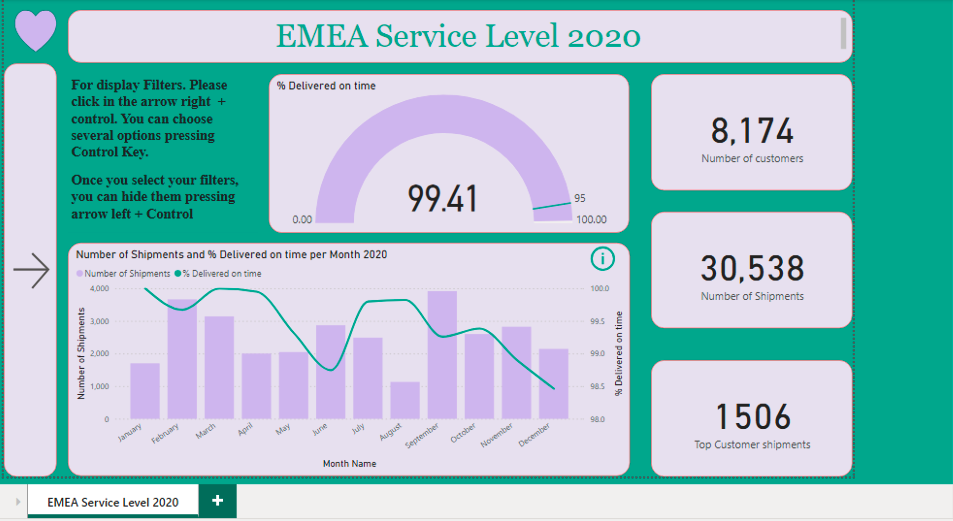

What the dashboard file says about the page in this screenshot:
{"tool":"powerbi","page":{"name":"EMEA Service Level 2020","canvas":[1280,720],"ordinal":0},"visuals":[{"type":"lineStackedColumnComboChart","title":"Number of Shipments and % Delivered on time per Month 2020","fields":{"Category":["DIM_Dates.Month Name"],"Y":["Count(FACT_Deliveries.Delivery Number)"],"Y2":["FACT_Deliveries.% Delivered on time"]},"box":[96,368,848,352],"z":0},{"type":"card","fields":{"Values":["Count(FACT_Deliveries.Delivery Number)"]},"box":[976,320,304,176],"z":1000},{"type":"card","fields":{"Values":["Count(FACT_Deliveries.Sold to Customer)"]},"box":[976,112,304,176],"z":2000},{"type":"gauge","fields":{"Y":["FACT_Deliveries.% Delivered on time"]},"box":[400,112,544,240],"z":3000},{"type":"card","fields":{"Values":["FACT_Deliveries.Top Customer"]},"box":[976,544,304,176],"z":4000},{"type":"textbox","box":[96,16,1184,80],"z":5000},{"type":"actionButton","box":[0,96,80,624],"z":6000},{"type":"textbox","box":[96,112,288,144],"z":12000},{"type":"textbox","box":[96,256,288,96],"z":13000},{"type":"actionButton","box":[880,368,64,48],"z":15000},{"type":"shape","box":[16,16,64,64],"z":17001}]}

Visuals, with their boxes on the page's 1280x720 design canvas (x1, y1, x2, y2). These are canvas units, not pixel positions in the 953x521 screenshot, which may show the page scaled, cropped or inside an application window:
"Number of Shipments and % Delivered on time per Month 2020" lineStackedColumnComboChart: bbox=[96, 368, 944, 720]
card - Count(FACT_Deliveries.Delivery Number): bbox=[976, 320, 1280, 496]
card - Count(FACT_Deliveries.Sold to Customer): bbox=[976, 112, 1280, 288]
gauge - FACT_Deliveries.% Delivered on time: bbox=[400, 112, 944, 352]
card - FACT_Deliveries.Top Customer: bbox=[976, 544, 1280, 720]
textbox: bbox=[96, 16, 1280, 96]
actionButton: bbox=[0, 96, 80, 720]
textbox: bbox=[96, 112, 384, 256]
textbox: bbox=[96, 256, 384, 352]
actionButton: bbox=[880, 368, 944, 416]
shape: bbox=[16, 16, 80, 80]
